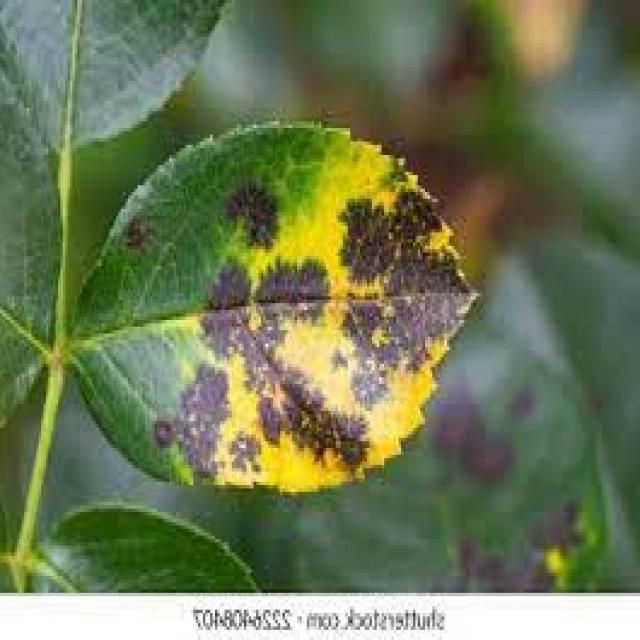black-spot: (286, 107, 499, 399)
